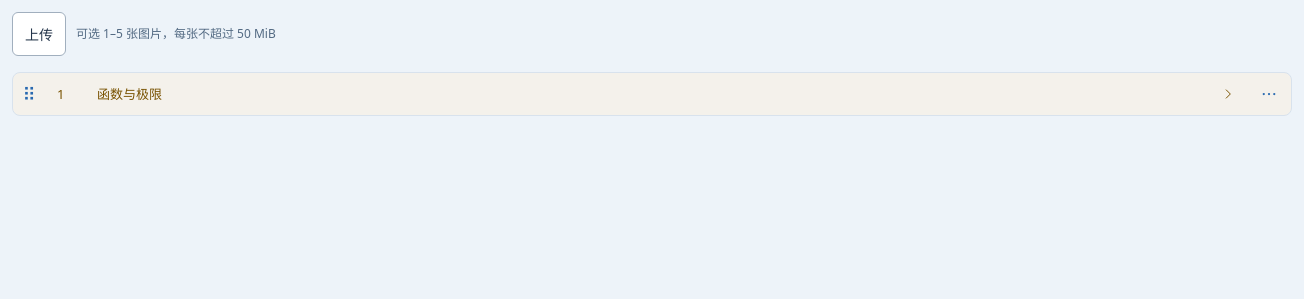
reviewed curriculum › retains typed corrections on a save failure
The width and height of the screenshot is (1304, 299).
Right-click the button with aria-label "章节 1 ".
right_click(130, 94)  # box [45,73,1247,115]
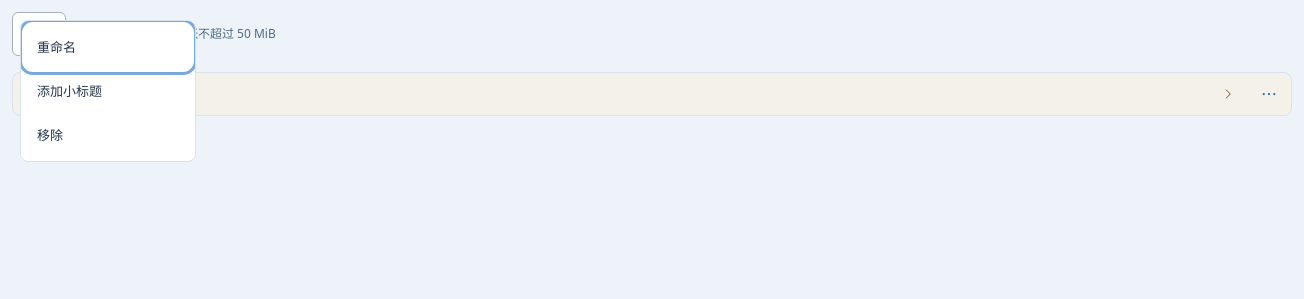
Click the menu item "重命名".
click(108, 47)  # box [25,25,191,69]
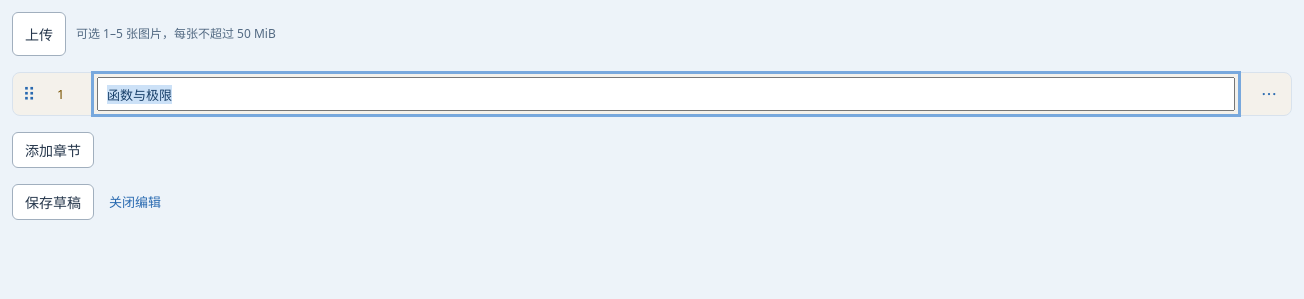
Replace the text in the field named "章节 1标题" with "修正的章节标题" at (666, 94), box [97,77,1235,111]
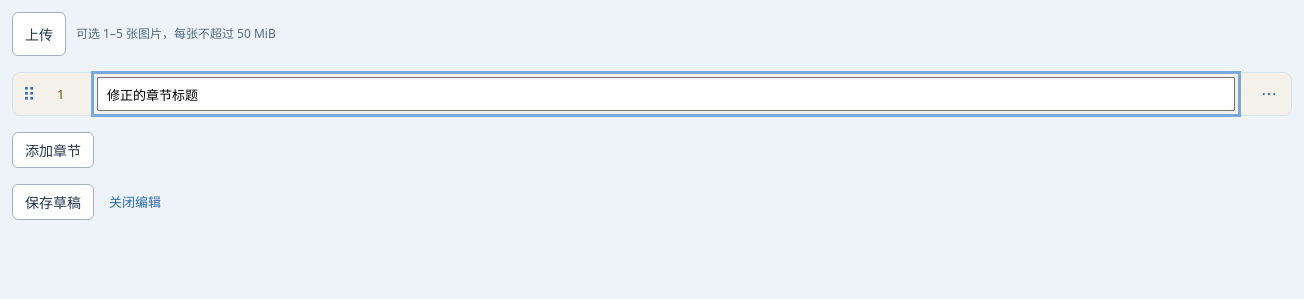
Click the button "保存草稿".
click(53, 202)  # box [12,184,94,220]
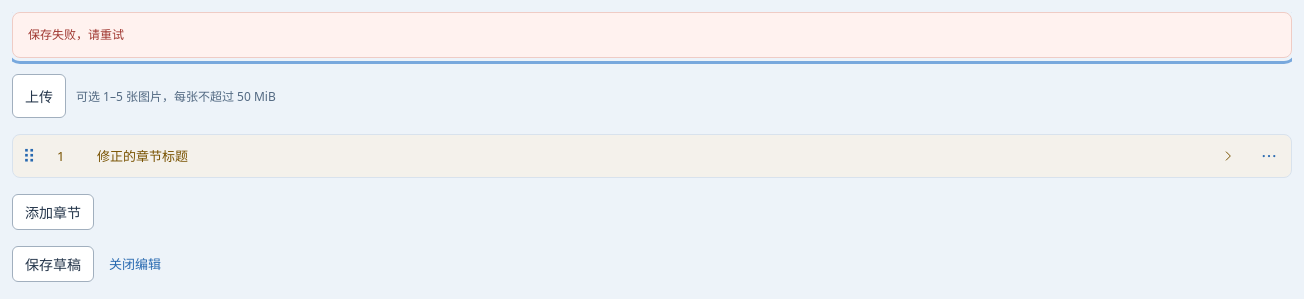
Now the message reads "保存失败，请重试", box [28,26,124,43]
Now the button with aria-label "章节 1 修正的章节标题" is shown, box [45,135,1247,177]
